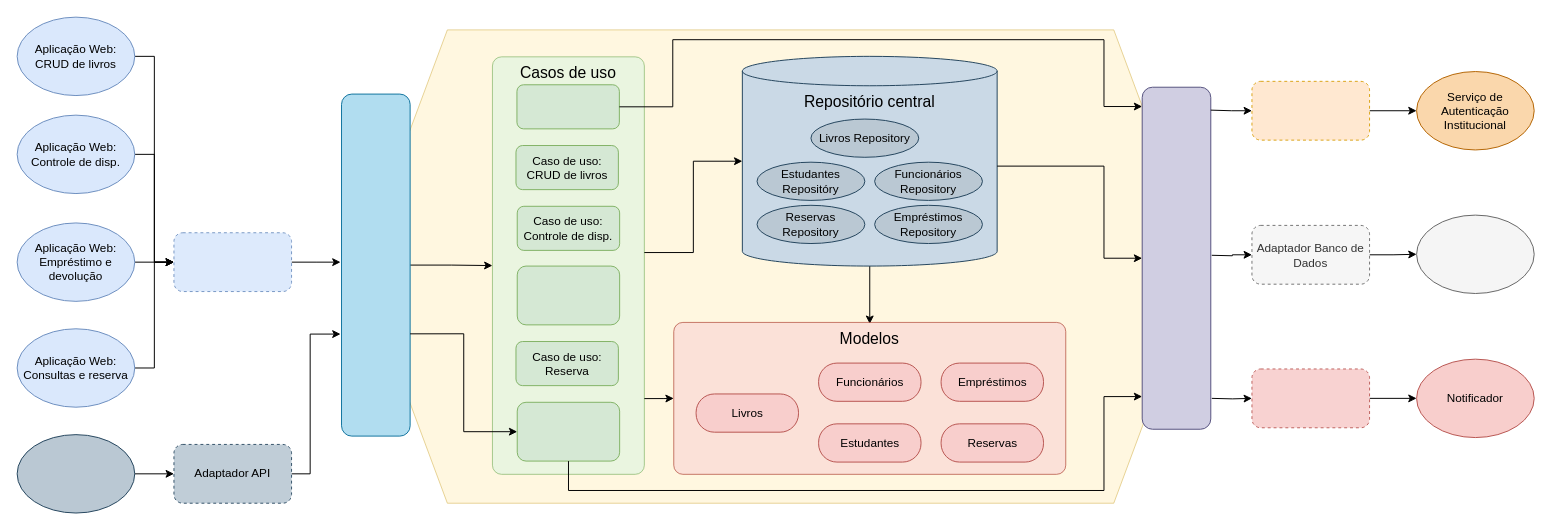
The diagram is 1551 pixels wide and 530 high, and some of its shapes have lost their labels. Each missing label, with the centre of its shape:
"Adaptador Autenticação" goes at point (1310, 110).
"Adaptador Notificador" goes at point (1310, 398).
"Adaptador Web" goes at point (232, 262).
"API: Relógio" goes at point (75, 473).
"Banco de Dados" goes at point (1475, 254).
"Caso de uso: Empréstimo e devolução" goes at point (568, 295).
"Caso de uso: login e cadastro" goes at point (567, 106).
"Caso de uso: notifica reservas e atrasos" goes at point (568, 431).
"Porta de entrada" goes at point (375, 264).
"Porta de saída" goes at point (1176, 257).
